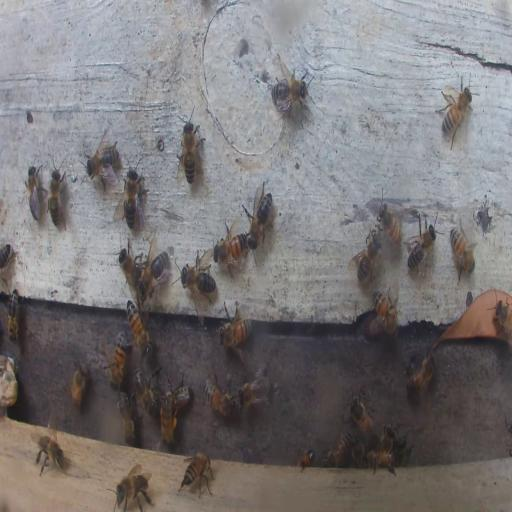nonpollenbee: (84, 128, 121, 194), (241, 181, 275, 249), (438, 80, 473, 146), (405, 214, 440, 274), (176, 110, 202, 188), (270, 66, 310, 114), (348, 229, 383, 283), (113, 468, 154, 511), (34, 425, 68, 476), (213, 226, 251, 271), (449, 220, 476, 281), (180, 452, 214, 497), (406, 348, 436, 398), (138, 250, 169, 298), (374, 194, 402, 246), (126, 300, 151, 358), (182, 254, 216, 295), (123, 164, 144, 230), (45, 164, 66, 230), (238, 372, 272, 410), (203, 381, 236, 418), (25, 160, 44, 224), (134, 366, 158, 416), (321, 431, 353, 467), (118, 244, 142, 292), (218, 315, 252, 348), (372, 290, 398, 333), (348, 392, 373, 436), (108, 337, 127, 390), (71, 358, 88, 410), (164, 380, 189, 414), (118, 392, 134, 443), (492, 300, 511, 342), (6, 289, 20, 343), (364, 450, 397, 472), (351, 438, 365, 466), (382, 428, 398, 452), (1, 243, 13, 274), (298, 450, 316, 468)
pollenbee: (159, 391, 177, 448)
